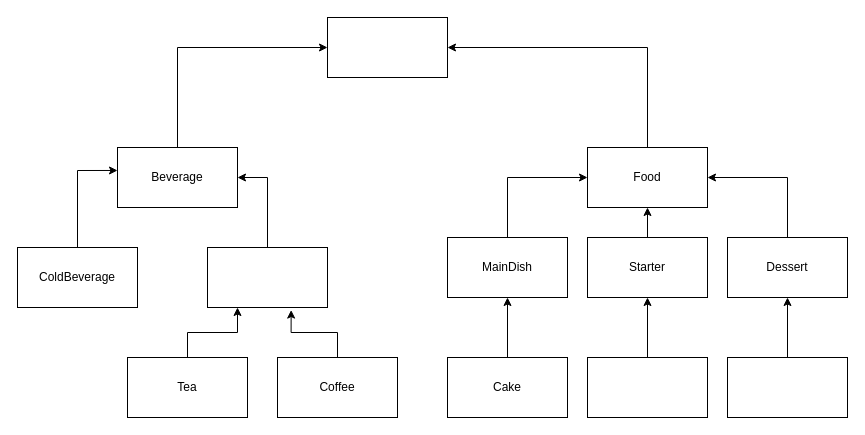
Some shapes in this 865 by 435 pixel diagram are drawn without their labels. The shapes that lost their labels are listed below. From the top down, each one's centre as x and y in pixels, then its label:
point 387,47: Product
point 267,277: HotBeverage
point 647,387: Salmon
point 787,387: Soup
